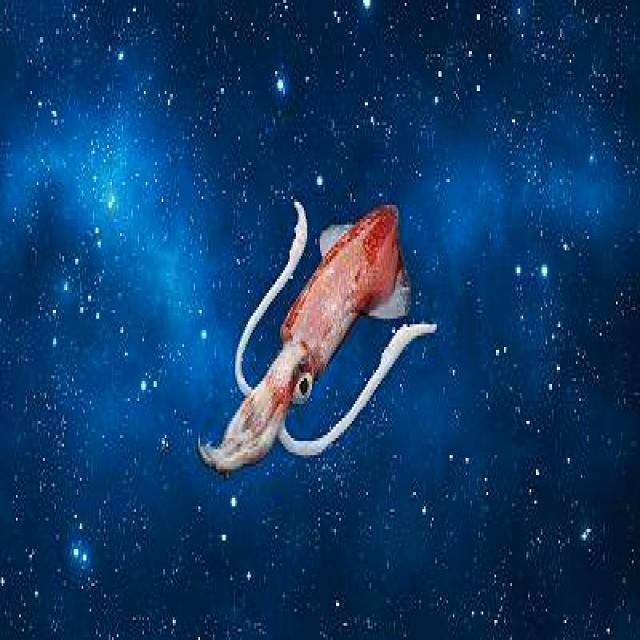squid: (200, 199, 437, 472)
